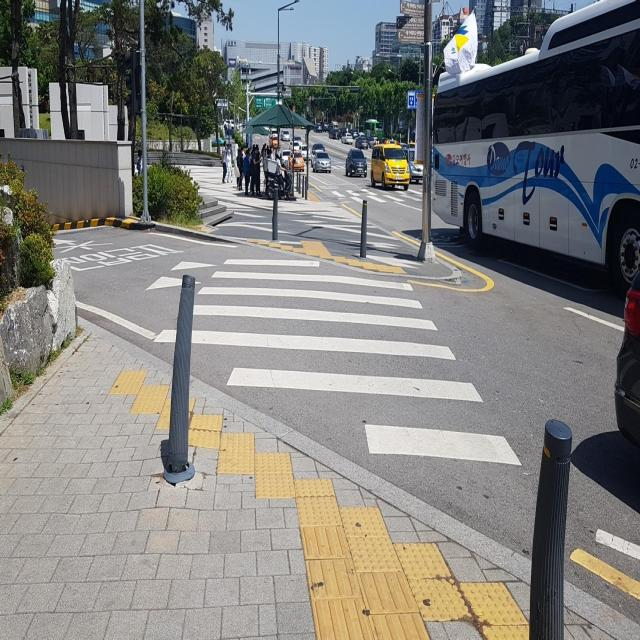횡단보도: (152, 256, 524, 471), (330, 187, 425, 209)
